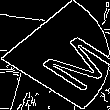M_NW: (7, 21, 103, 89)
